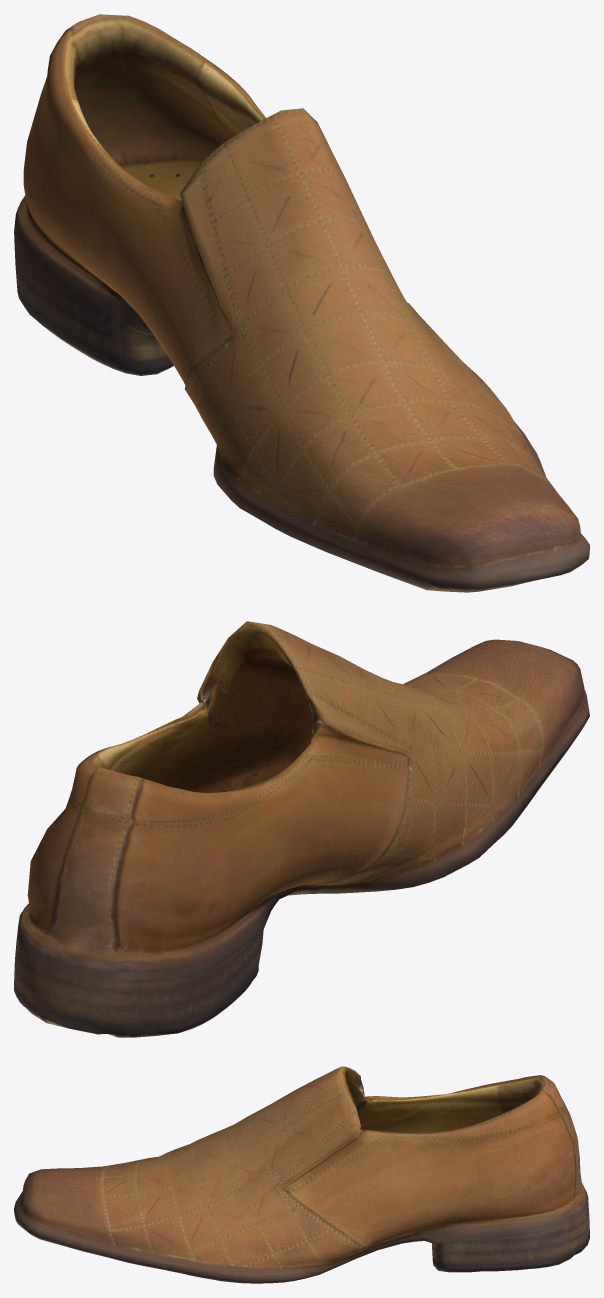
Rendered from SHOE.fbx.
The picture shows the model from 3 angles, top to bottom: view 1: azimuth 30°, elevation 25°; view 2: azimuth 150°, elevation 25°; view 3: azimuth 270°, elevation 25°; orthographic projection. The views are drawn at different scales.
Parts seen in each view (by area): view 1: PB161_shoe_low; view 2: PB161_shoe_low; view 3: PB161_shoe_low.
Boxes of the visible parts, bbox=[...] form: PB161_shoe_low: bbox=[14, 14, 589, 592]; PB161_shoe_low: bbox=[14, 621, 589, 1037]; PB161_shoe_low: bbox=[14, 1066, 589, 1283].
Size of the model in its own units: 1001 by 1015 by 2944.
